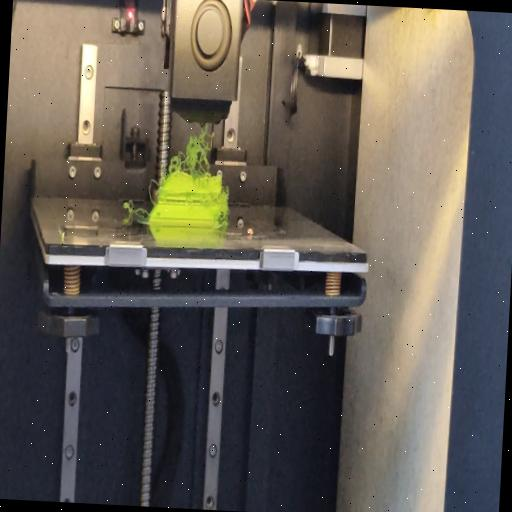spaghetti: (166, 121, 216, 176), (122, 200, 149, 216), (148, 174, 161, 204), (217, 219, 228, 229)
